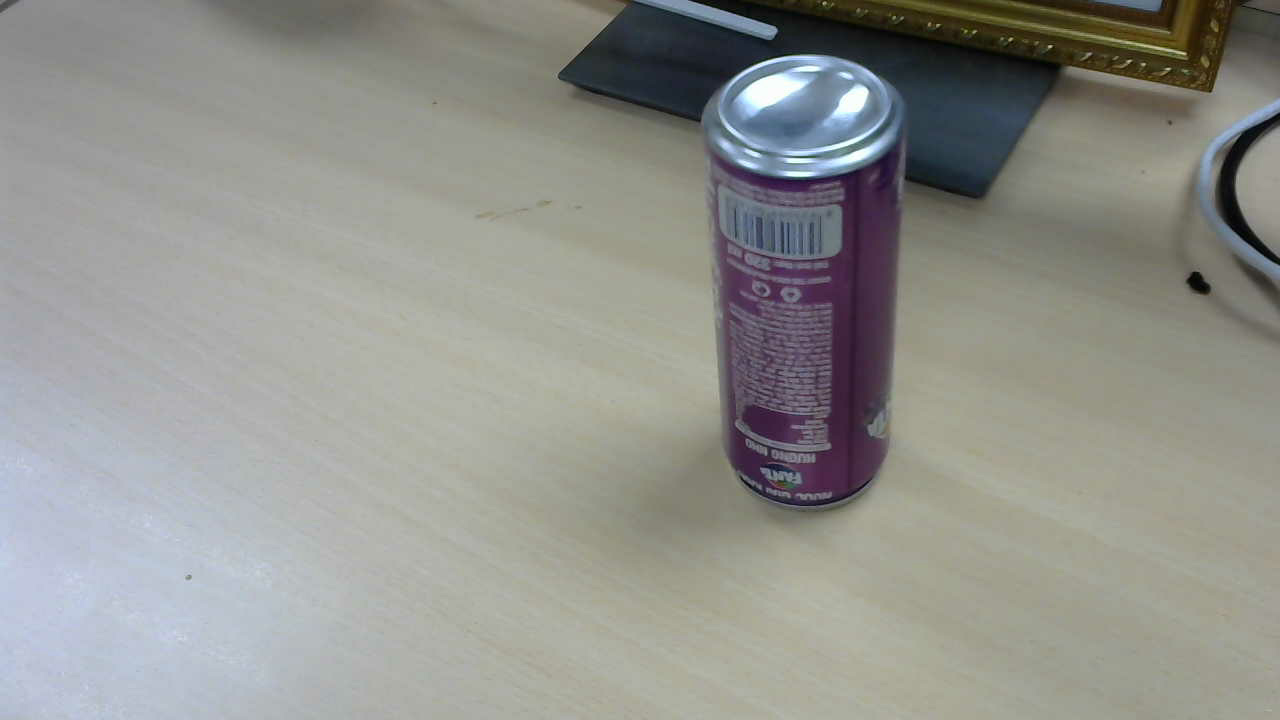Fanta: (707, 58, 918, 513)
